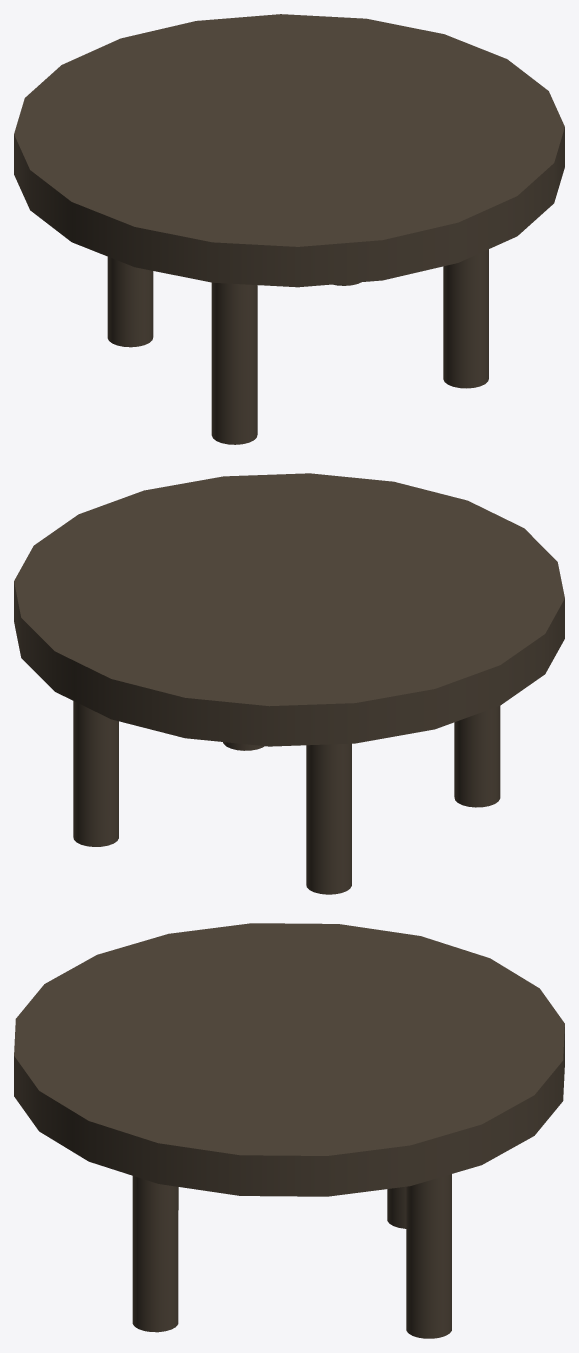
File: Table 1.2.fbx
3 views of the same model, one above another, from view 1: azimuth 30°, elevation 25°; view 2: azimuth 150°, elevation 25°; view 3: azimuth 270°, elevation 25° (orthographic).
Parts seen in each view (by area): view 1: pCylinder11; view 2: pCylinder11; view 3: pCylinder11.
Part boxes in pixels (x1,y1,x2,y2): pCylinder11: [14, 14, 564, 444]; pCylinder11: [14, 473, 564, 894]; pCylinder11: [14, 923, 564, 1338].
Bounding box in the file's own units: 12.05 × 5.52 × 12.05.
